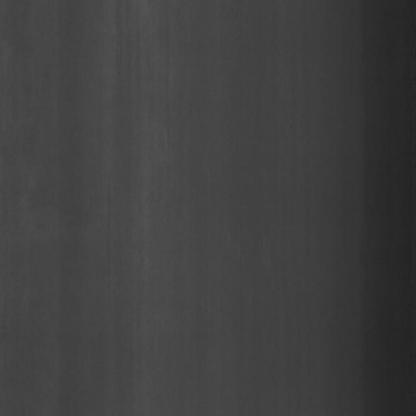silk_spot: (113, 24, 177, 100)
